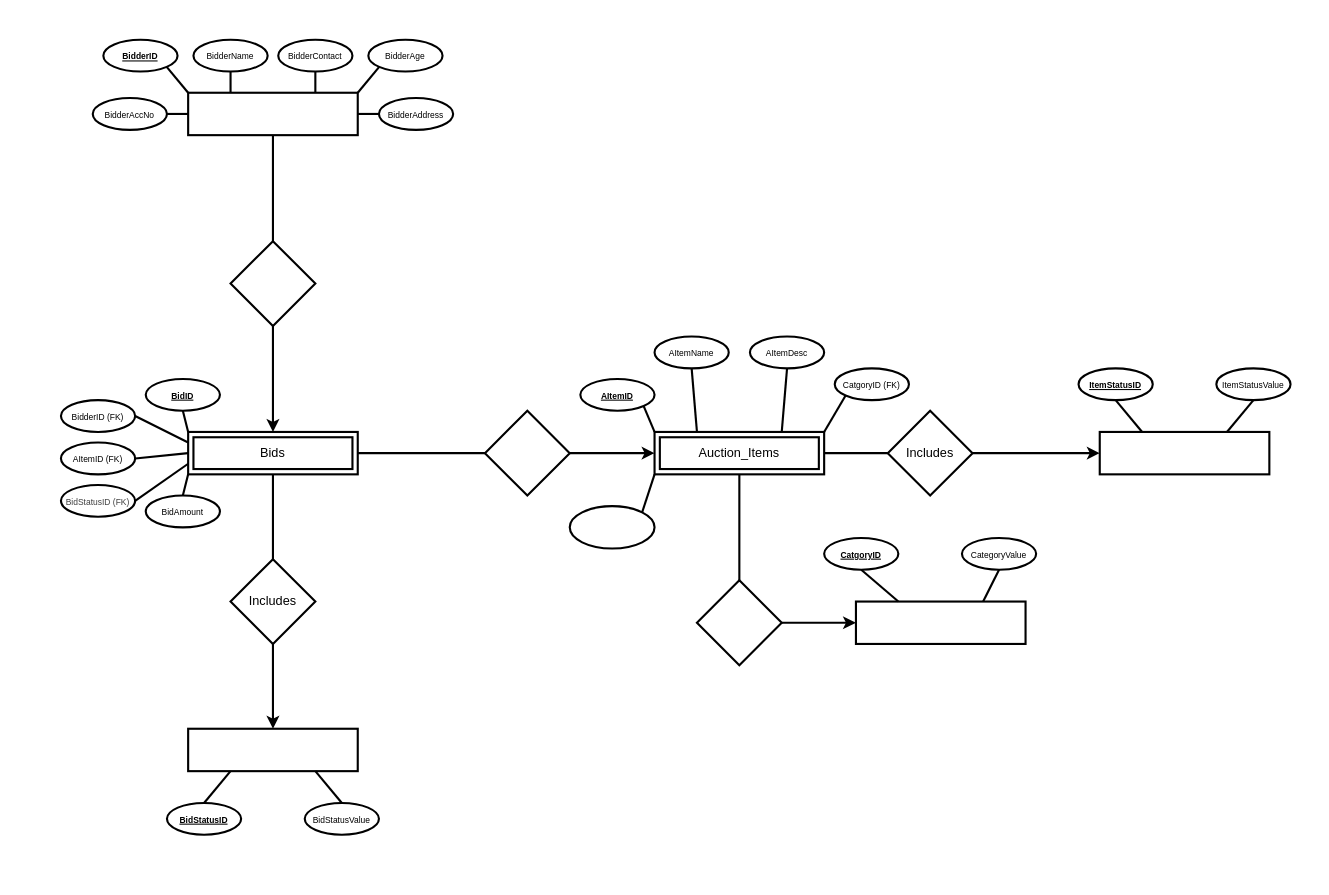
Some shapes in this 1329 by 895 pixel diagram are drawn without their labels. The shapes that lost their labels are listed below. From the top down, each one's centre as x and y in pixels, then its label:
At (x=272, y=113): "BIdders".
At (x=272, y=283): "Places".
At (x=526, y=452): "Placed on".
At (x=1184, y=452): "Item_Status".
At (x=611, y=527): "ItemStatusID (FK)".
At (x=738, y=622): "Is of".
At (x=940, y=622): "Item_Categories".
At (x=272, y=749): "Bid_Status".
